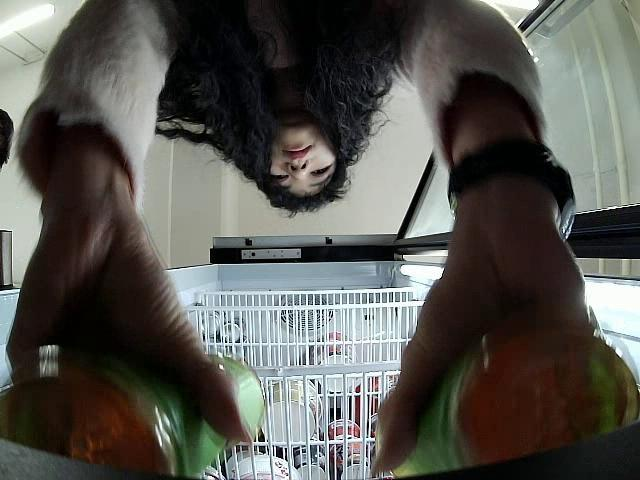19_17cha: (396, 331, 640, 480), (0, 356, 267, 480)
